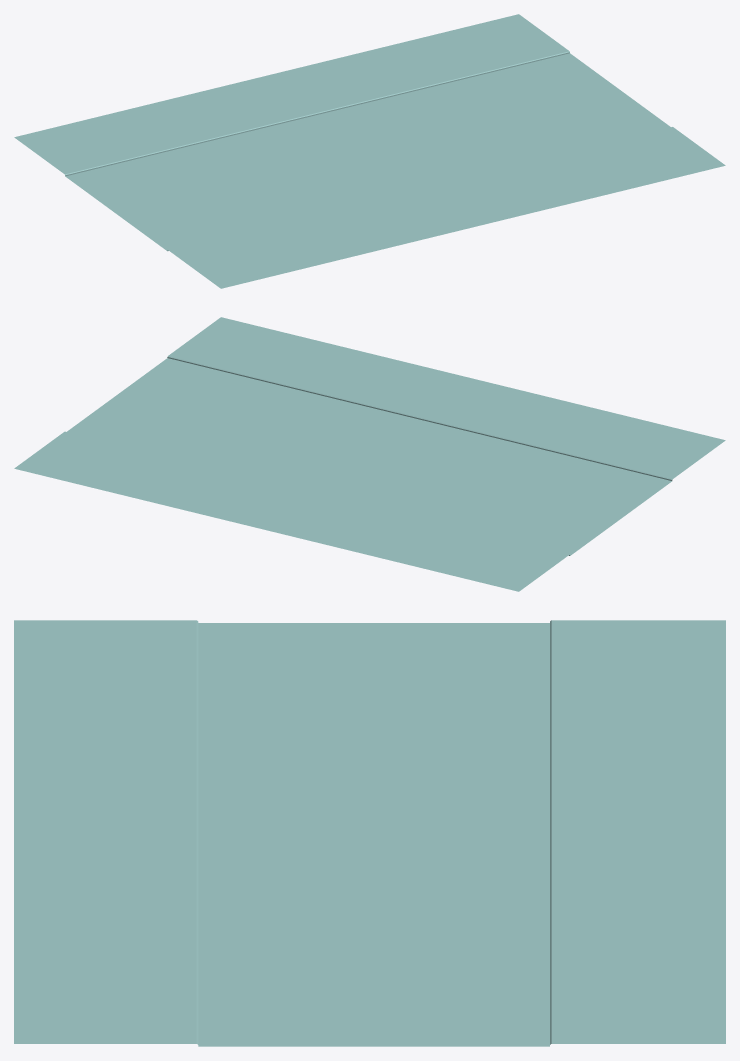
The model's file is HallFloor.fbx.
3 renders of one model, top to bottom at view 1: azimuth 30°, elevation 25°; view 2: azimuth 150°, elevation 25°; view 3: azimuth 270°, elevation 25°, orthographic. The views are drawn at different scales.
Parts seen in each view (by area): view 1: PrisonHall.002; view 2: PrisonHall.002; view 3: PrisonHall.002.
Part boxes in pixels (bbox=[...]): PrisonHall.002: bbox=[14, 14, 725, 288]; PrisonHall.002: bbox=[14, 317, 725, 591]; PrisonHall.002: bbox=[14, 620, 725, 1046].
Bounding box in the file's own units: 606 × 1.95 × 430.
